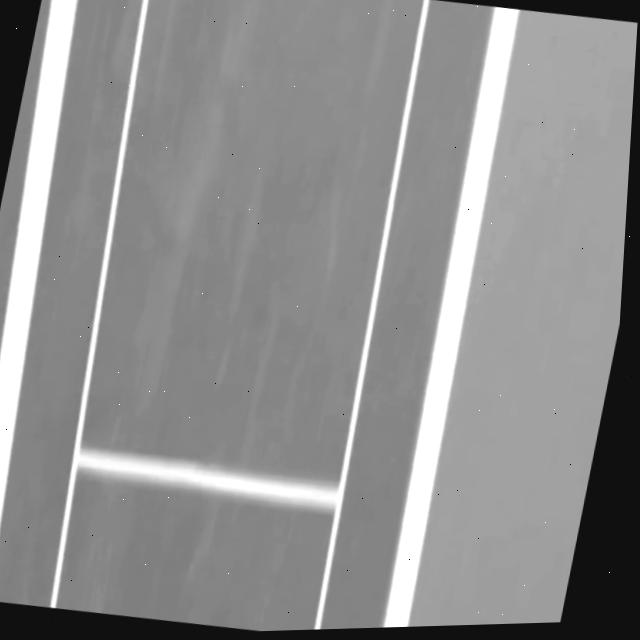left: (383, 7, 520, 628)
